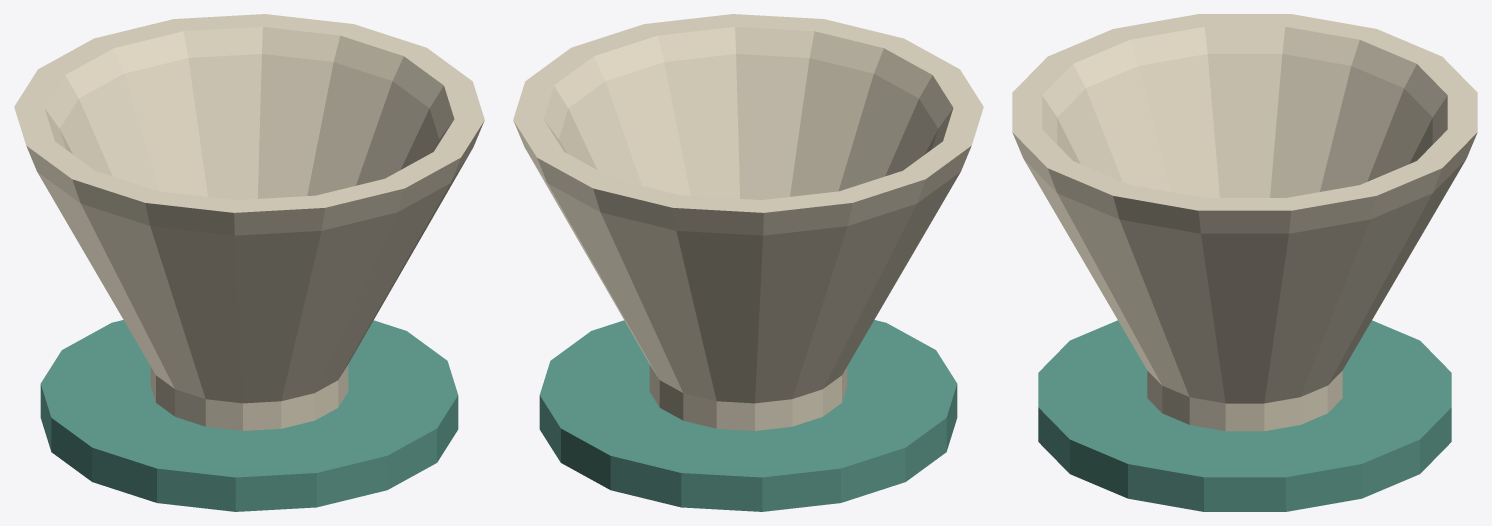
3 views of the same model, side by side, from view 1: azimuth 30°, elevation 25°; view 2: azimuth 150°, elevation 25°; view 3: azimuth 270°, elevation 25° (orthographic).
Visible parts, largest first — view 1: ContinuousOpenThroatCupNeckAndAnnularRestingFlange; view 2: ContinuousOpenThroatCupNeckAndAnnularRestingFlange; view 3: ContinuousOpenThroatCupNeckAndAnnularRestingFlange.
Part boxes in pixels (box(x1,y1,x2,y2)): ContinuousOpenThroatCupNeckAndAnnularRestingFlange: box(14, 14, 484, 511); ContinuousOpenThroatCupNeckAndAnnularRestingFlange: box(513, 14, 983, 511); ContinuousOpenThroatCupNeckAndAnnularRestingFlange: box(1012, 14, 1477, 511).
Bounding box in the file's own units: 0.1216 × 0.09 × 0.1216.
